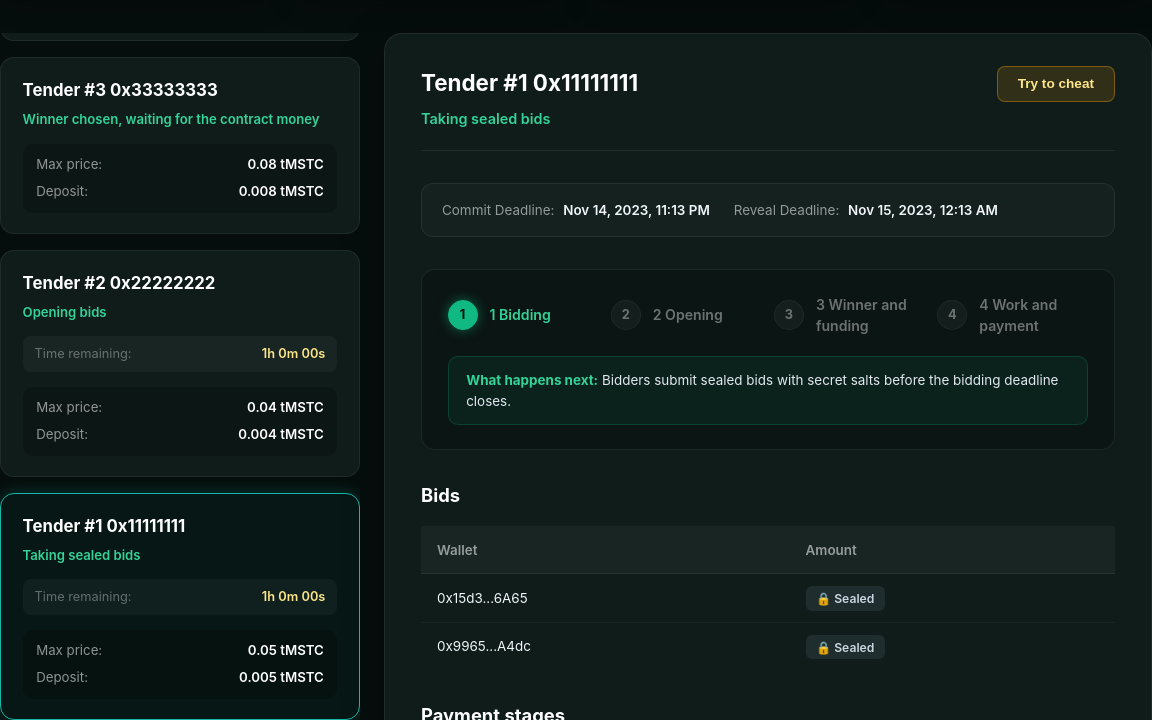
Test: PublicAuditTab Component Tests › Modal Control Interactions › closes modal when clicking backdrop outside dialog
(page scrolled)
Click the button "Try to cheat" at x=1056, y=84, box [997,66,1115,102]
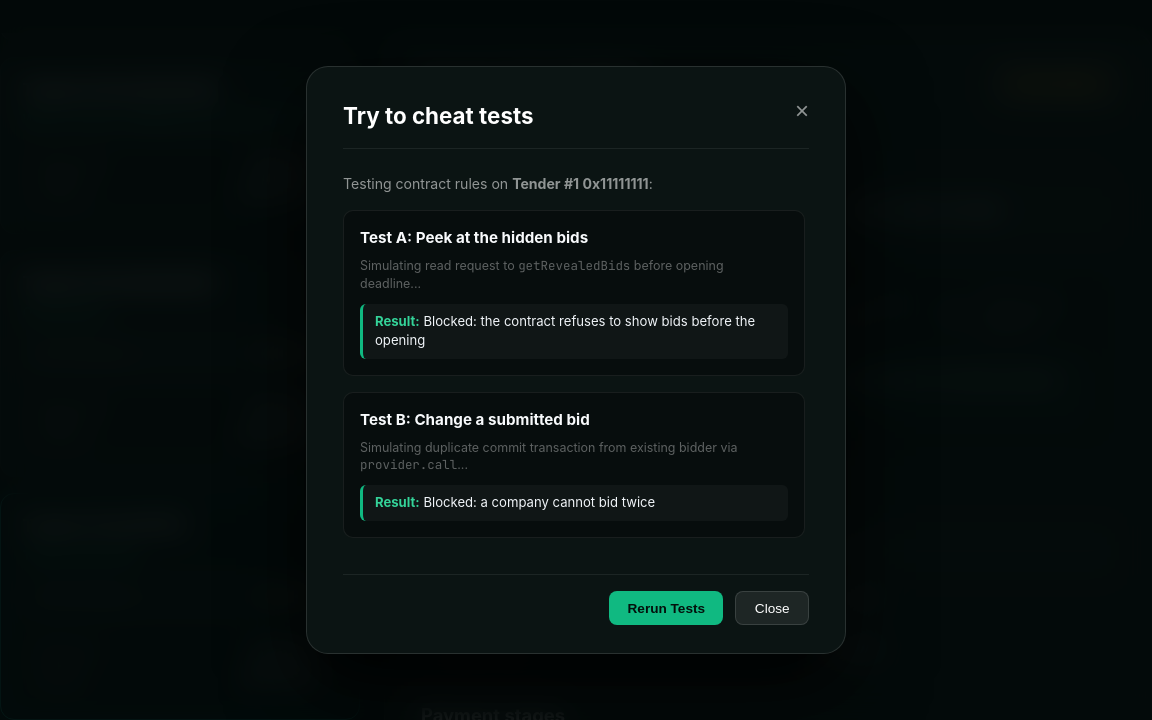
Result: the element with class "modal-backdrop" is shown
Click the element with class "modal-backdrop" at x=69, y=360, box [0,0,1151,719]
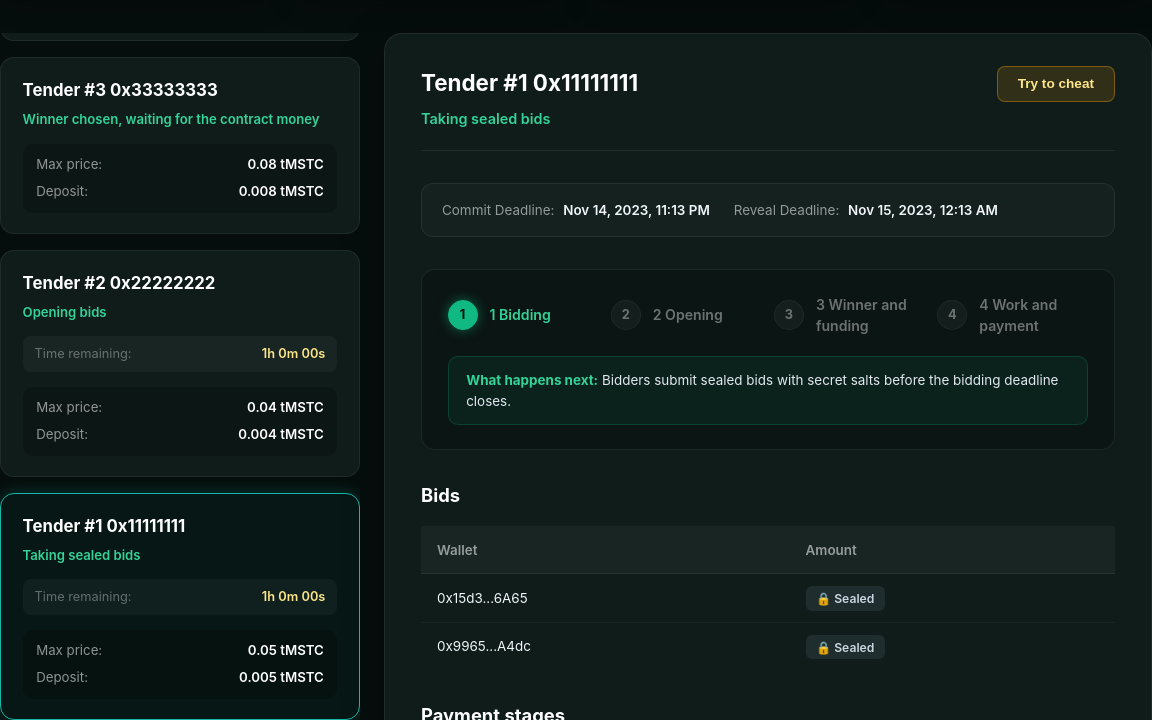
Result: the heading "Try to cheat tests" is gone
